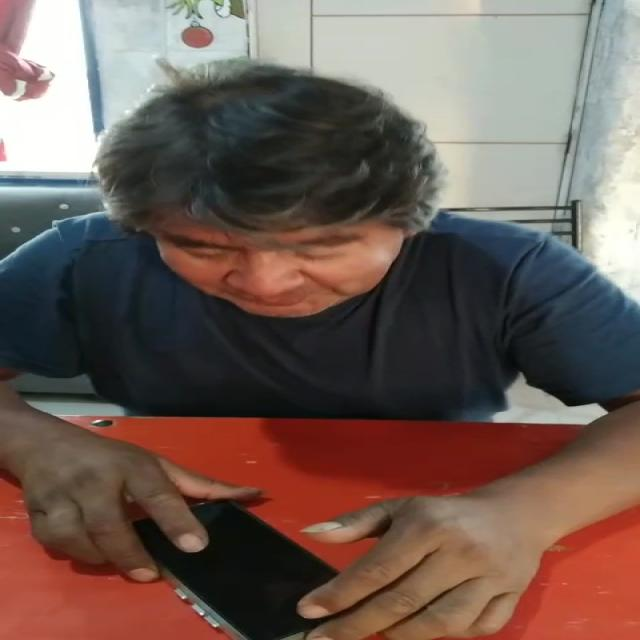9_cabeza_baja: (96, 75, 438, 319)
